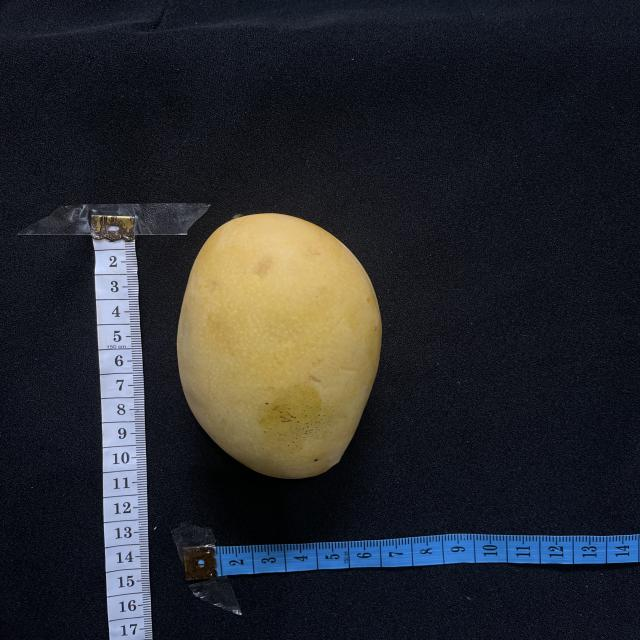Ripe: (177, 213, 382, 479)
